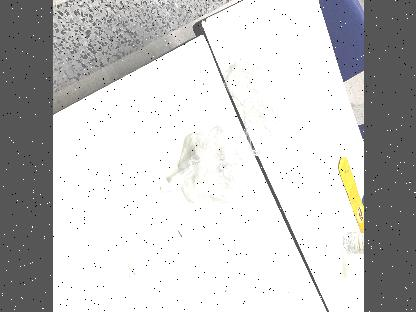Others: (162, 125, 252, 208), (220, 56, 280, 158), (122, 187, 178, 292)
